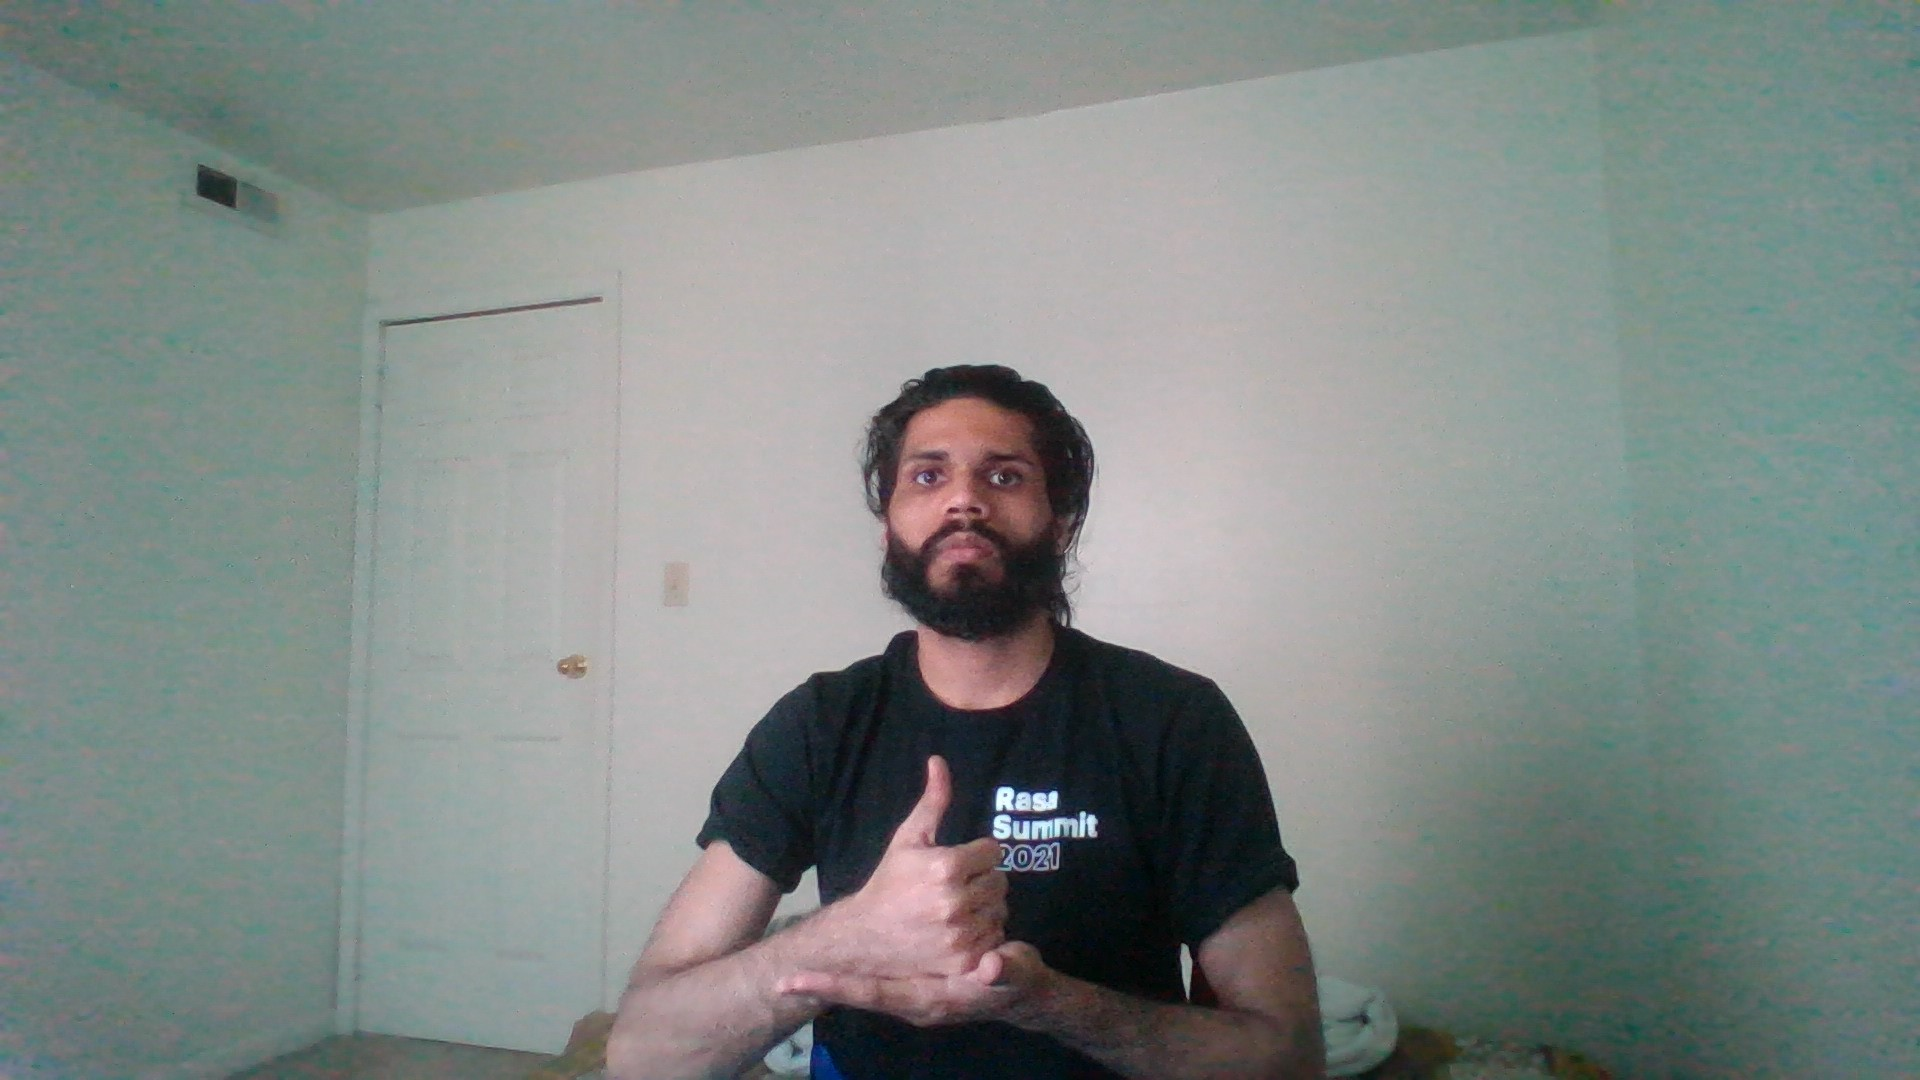Help: (741, 748, 1073, 1047)
